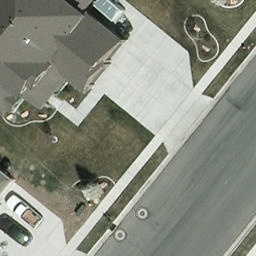camping car: (93, 0, 130, 28)
car: (0, 216, 34, 249)
pickup: (5, 193, 45, 230)
